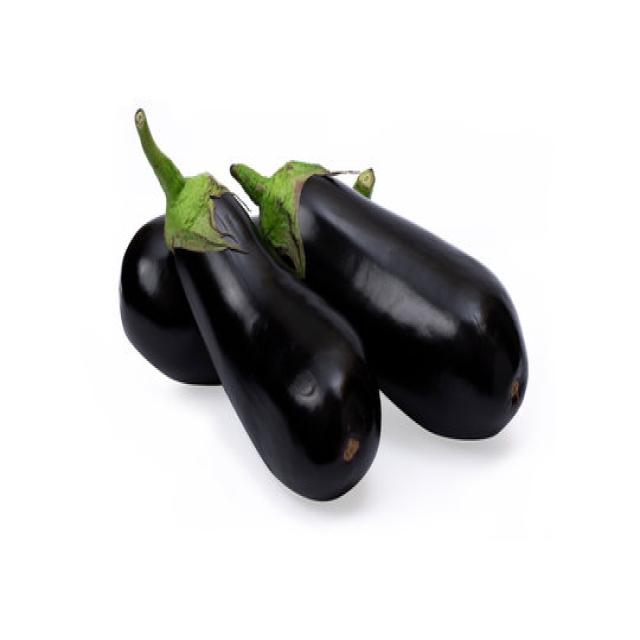Eggplant: (132, 105, 382, 499), (228, 157, 528, 439), (117, 202, 376, 408)
